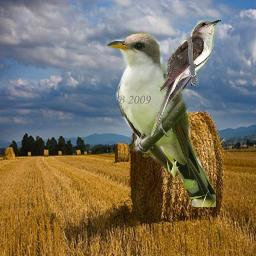Cuckoo: (106, 31, 216, 207), (151, 19, 221, 137)
